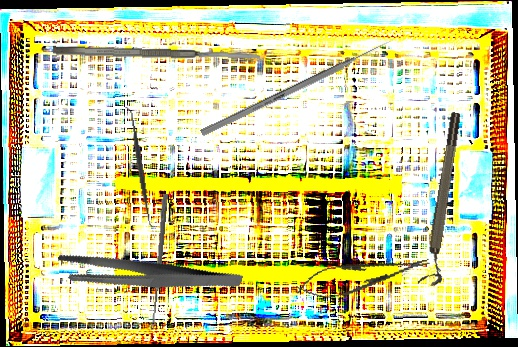Dressing Forceps: (52, 214, 244, 335)
Fixation Ring: (417, 111, 472, 288)
Needle Holder: (293, 246, 434, 306)
Pusher: (200, 36, 395, 138)
Spatula Surgical: (123, 104, 157, 230), (52, 44, 261, 63)
Surgical Spoon: (150, 193, 168, 331)
